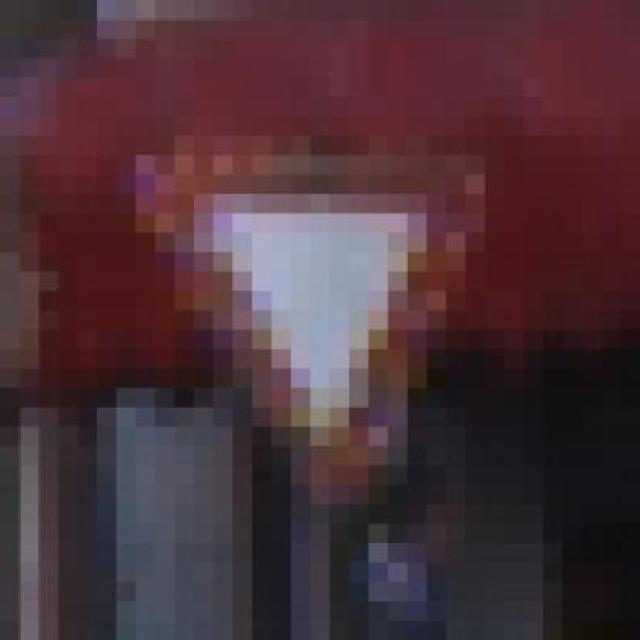Give Way: (97, 116, 563, 504)
